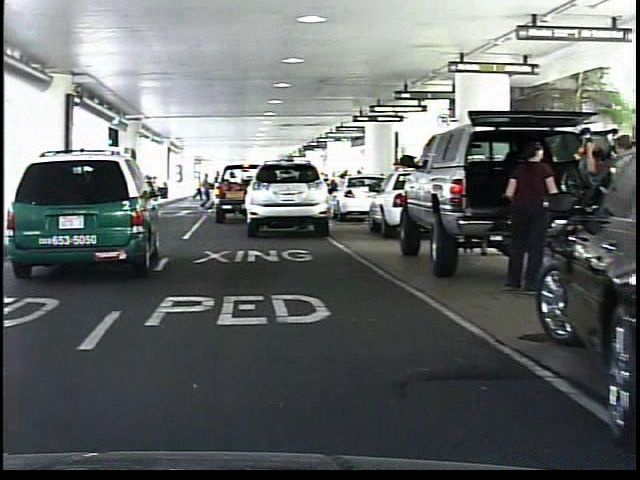person: (492, 134, 558, 291)
